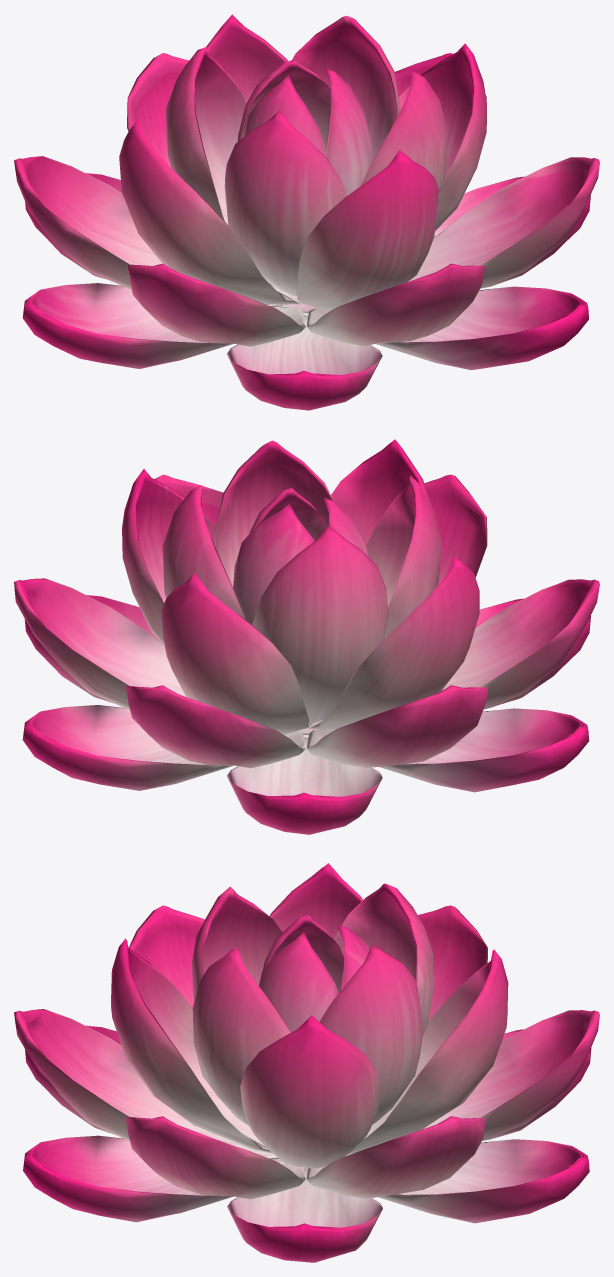
File: lotus.glb
3 renders of one model, top to bottom at view 1: azimuth 30°, elevation 25°; view 2: azimuth 150°, elevation 25°; view 3: azimuth 270°, elevation 25°, orthographic.
Parts seen in each view (by area): view 1: defaultMaterial.001; view 2: defaultMaterial.001; view 3: defaultMaterial.001.
Part boxes in pixels (bbox=[...]): defaultMaterial.001: bbox=[14, 14, 599, 410]; defaultMaterial.001: bbox=[14, 439, 599, 834]; defaultMaterial.001: bbox=[14, 863, 599, 1262].
Size of the model in its own units: 0.4863 by 0.2146 by 0.4424.
1 material, 1 textured.
